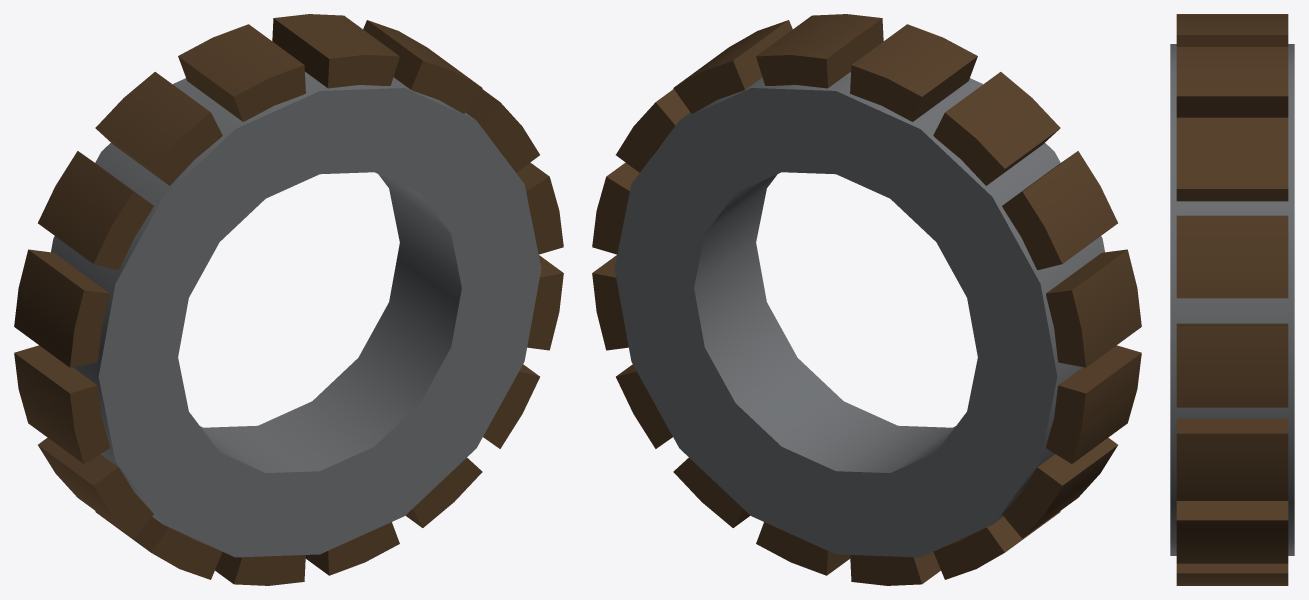
The model's file is u73l_coil_ring.obj.
The picture shows the model from 3 angles, left to right: view 1: azimuth 30°, elevation 25°; view 2: azimuth 150°, elevation 25°; view 3: azimuth 270°, elevation 25°; orthographic projection.
Parts seen in each view (by area): view 1: u73l_coil_ring; view 2: u73l_coil_ring; view 3: u73l_coil_ring.
Boxes of the visible parts, left/top/right/bottom form: u73l_coil_ring: left=14, top=14, right=563, bottom=585; u73l_coil_ring: left=592, top=14, right=1141, bottom=585; u73l_coil_ring: left=1170, top=14, right=1294, bottom=585.
Size of the model in its own units: 4.59 by 4.59 by 1.
